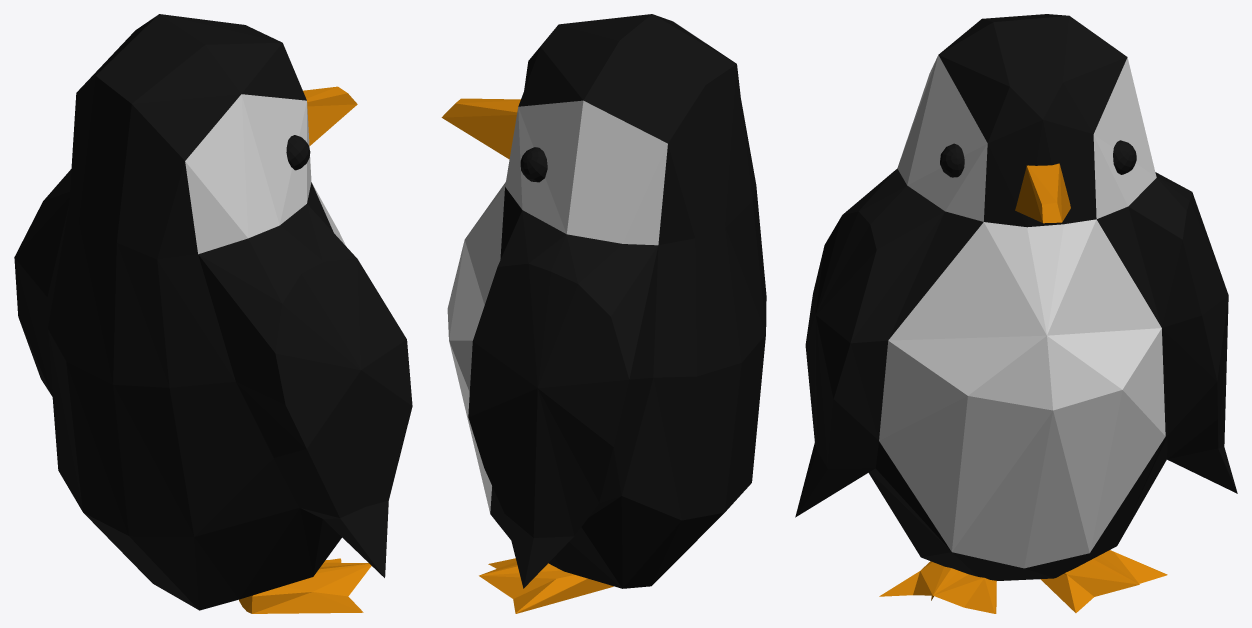
3 views of the same model, side by side, from view 1: azimuth 30°, elevation 25°; view 2: azimuth 150°, elevation 25°; view 3: azimuth 270°, elevation 25° (orthographic). The views are drawn at different scales.
Visible parts, largest first — view 1: node_MeshObject1161739264-PolyPaper23; view 2: node_MeshObject1161739264-PolyPaper23; view 3: node_MeshObject1161739264-PolyPaper23.
Part boxes in pixels (x1,y1,x2,y2): node_MeshObject1161739264-PolyPaper23: (14, 14, 412, 613); node_MeshObject1161739264-PolyPaper23: (441, 14, 766, 613); node_MeshObject1161739264-PolyPaper23: (795, 14, 1237, 613).
Size of the model in its own units: 0.3677 by 0.676 by 0.4997.
